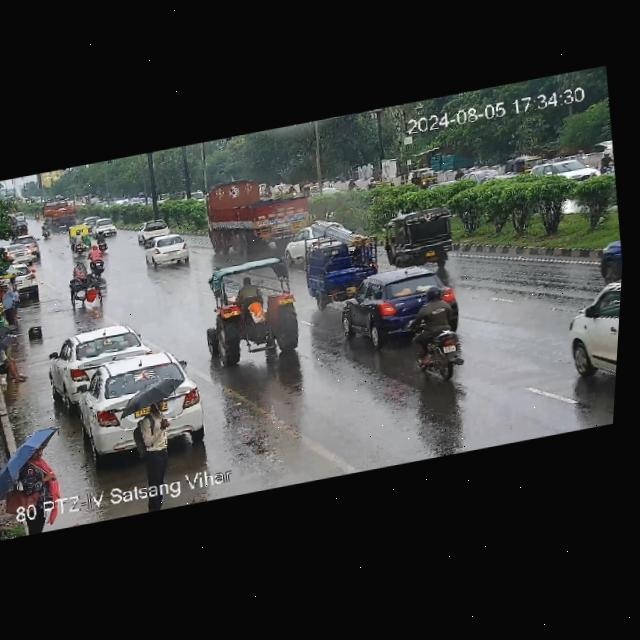car: (75, 344, 213, 463), (338, 261, 462, 350), (43, 315, 165, 405), (556, 279, 622, 403), (302, 233, 382, 305), (385, 206, 462, 269), (58, 252, 113, 313), (526, 151, 601, 191), (143, 231, 201, 273), (593, 229, 624, 298), (0, 236, 43, 272), (137, 214, 179, 244), (408, 161, 442, 193), (89, 215, 125, 242), (65, 221, 96, 246)
motorcycle: (401, 284, 468, 384), (81, 243, 122, 280), (68, 232, 93, 257), (91, 228, 115, 251), (39, 221, 53, 240)
person: (9, 432, 68, 535), (129, 394, 184, 476), (0, 331, 33, 388), (0, 279, 31, 327), (0, 310, 33, 354)
truck: (200, 258, 313, 373), (201, 171, 326, 256), (39, 192, 84, 230)
